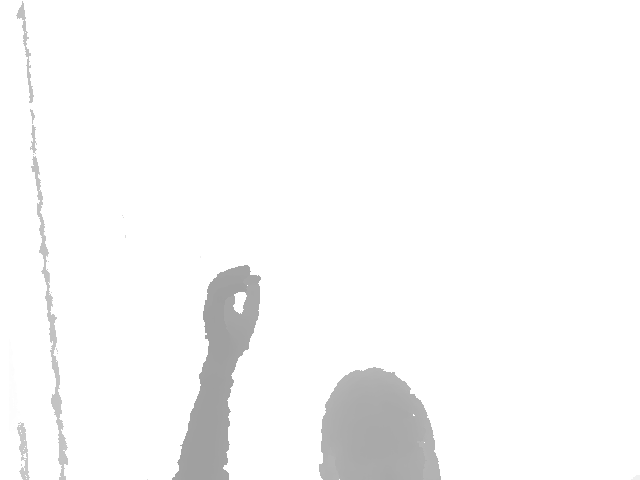hand: (203, 264, 262, 363)
head: (318, 367, 440, 480)
person: (172, 264, 441, 480)
